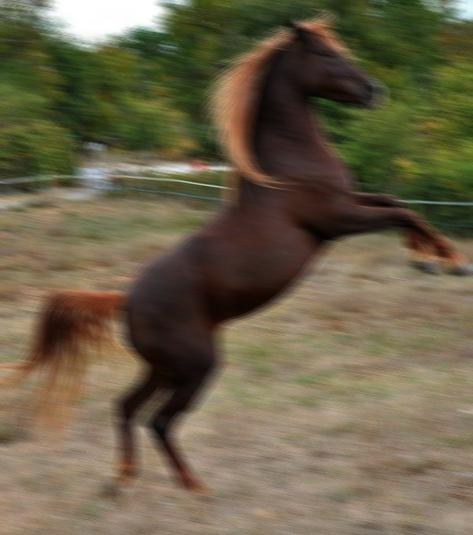horse: (0, 7, 473, 499)
